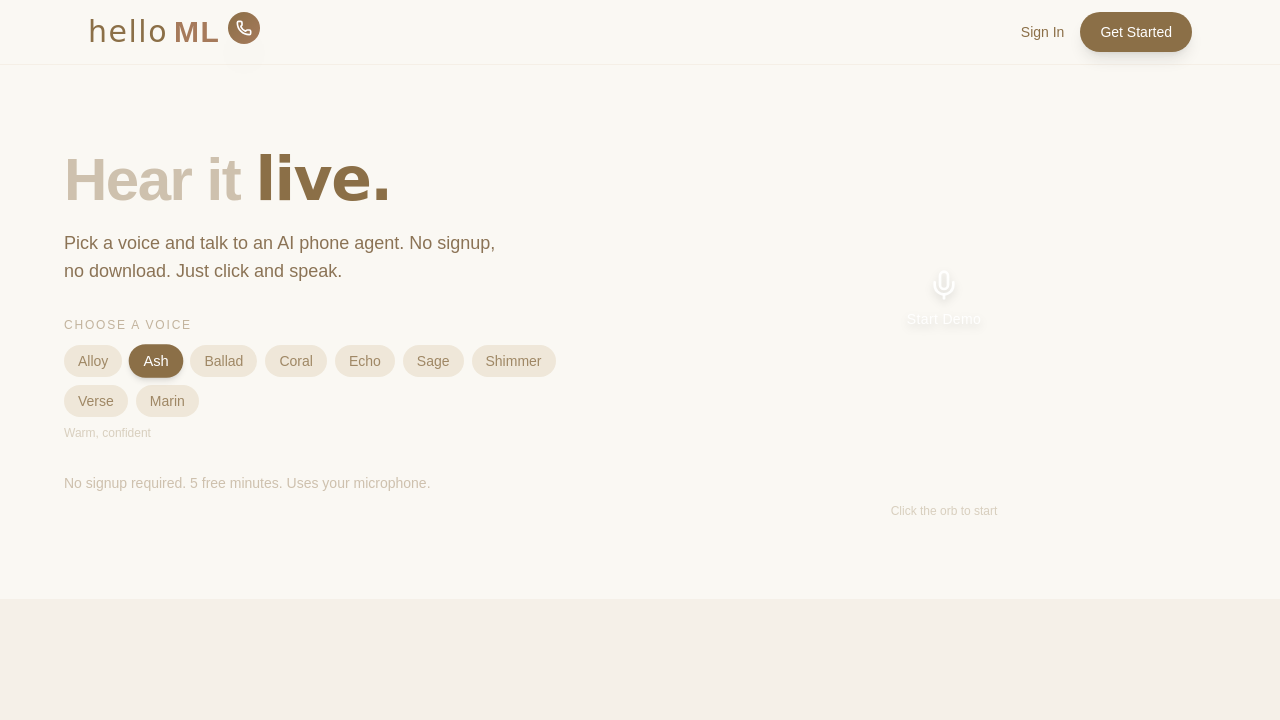
Voice Selector › updates description when a different voice is selected
(page scrolled)
Click the button "Echo": click(365, 361) top-left (335, 345), bottom-right (395, 377)
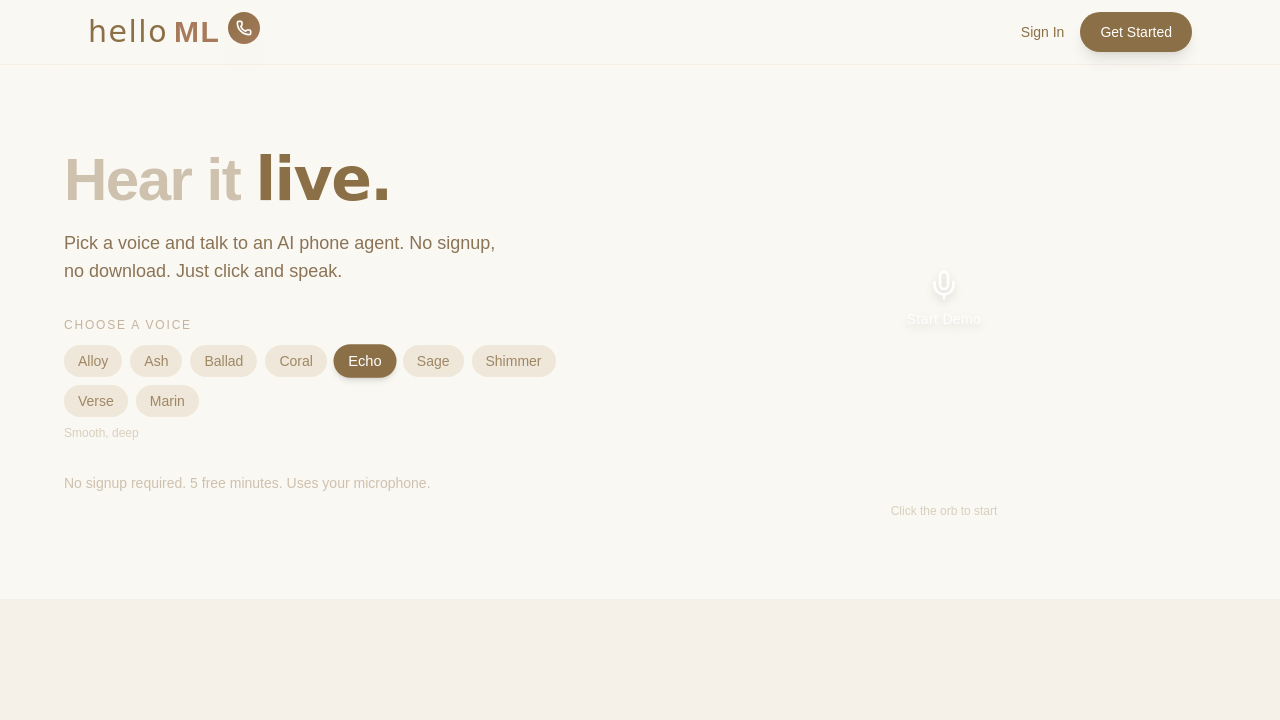
Now the text "Smooth, deep" is shown, box top-left (64, 426), bottom-right (139, 440)
